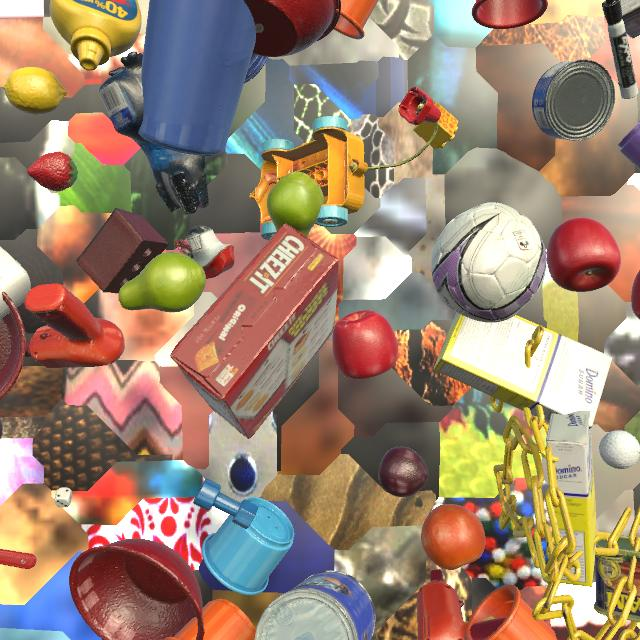ycb_002_master_chef_can: (255, 570, 376, 640)
ycb_003_cracker_box: (170, 223, 339, 439)
ycb_004_sugar_box: (433, 313, 612, 429), (546, 410, 596, 587)
ycb_006_mustard_bottle: (50, 0, 142, 71)
ycb_007_tuna_fish_can: (532, 59, 615, 141)
ycb_008_pudding_box: (620, 0, 640, 38)
ycb_010_potted_meat_can: (594, 535, 640, 622)
ycb_012_strawberry: (27, 152, 78, 191)
ycb_013_apple: (546, 218, 621, 292), (332, 310, 399, 379), (631, 270, 640, 320)
ycb_014_lemon: (4, 67, 67, 115)
ycb_016_pear: (118, 252, 206, 312), (267, 172, 324, 237)
ycb_017_orange: (421, 504, 486, 570)
ycb_018_plum: (378, 446, 428, 497), (0, 419, 3, 439)
